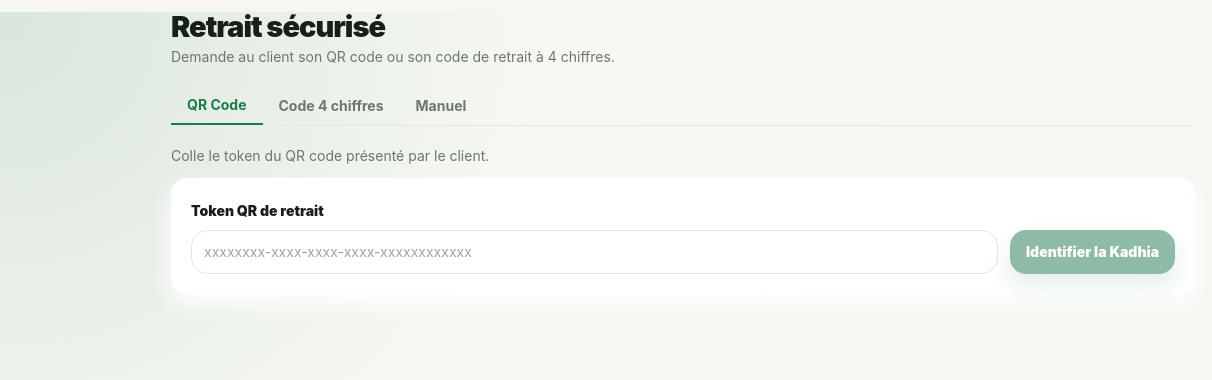
Test case: MerchantPickupPage › explains an unknown pickup QR in ar (PICKUP_SESSION_NOT_FOUND)
The image size is (1212, 380).
Step 1. Type "11111111-1111-4111-8111-111111111111" into the field labelled "Token QR de retrait" → (594, 252), box top-left (191, 230), bottom-right (998, 274)
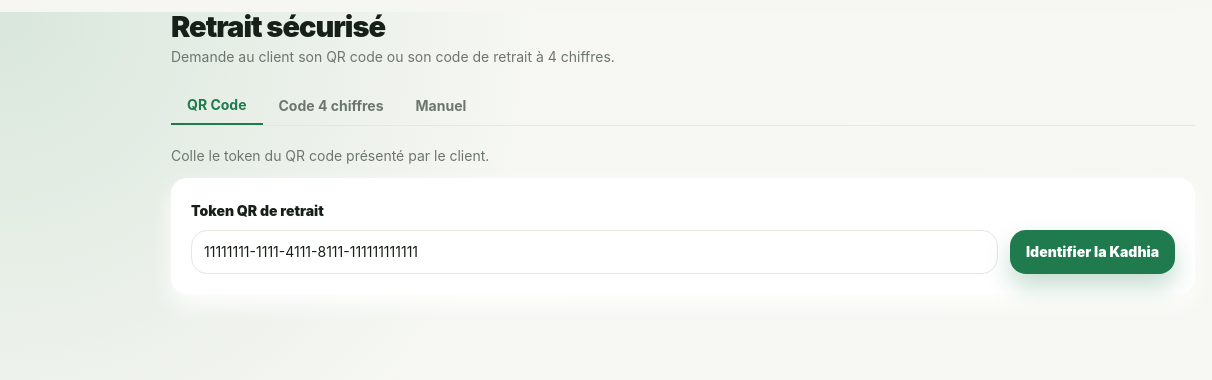
Step 2. Click the button "Identifier la Kadhia" → (1092, 252), box top-left (1010, 230), bottom-right (1175, 274)
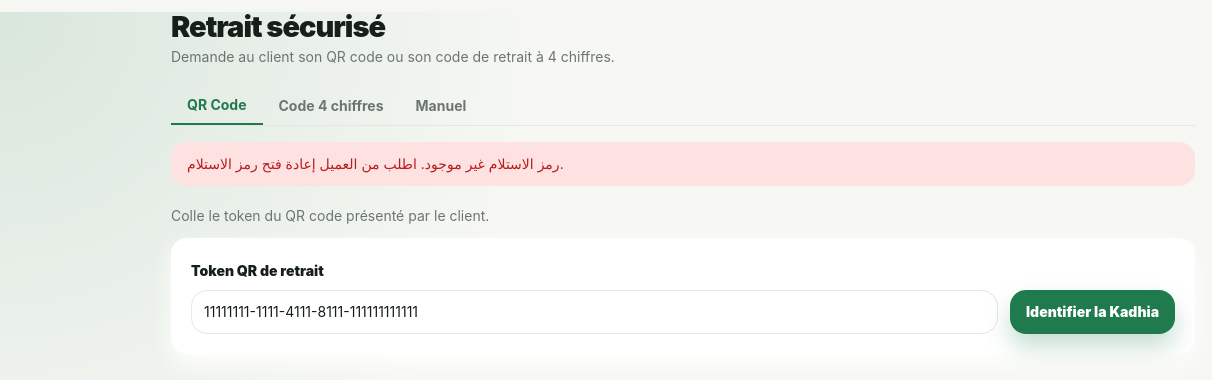
Now the message reads "رمز الاستلام غير موجود. اطلب من العميل إعادة فتح رمز الاستلام.", box top-left (187, 155), bottom-right (564, 172)
